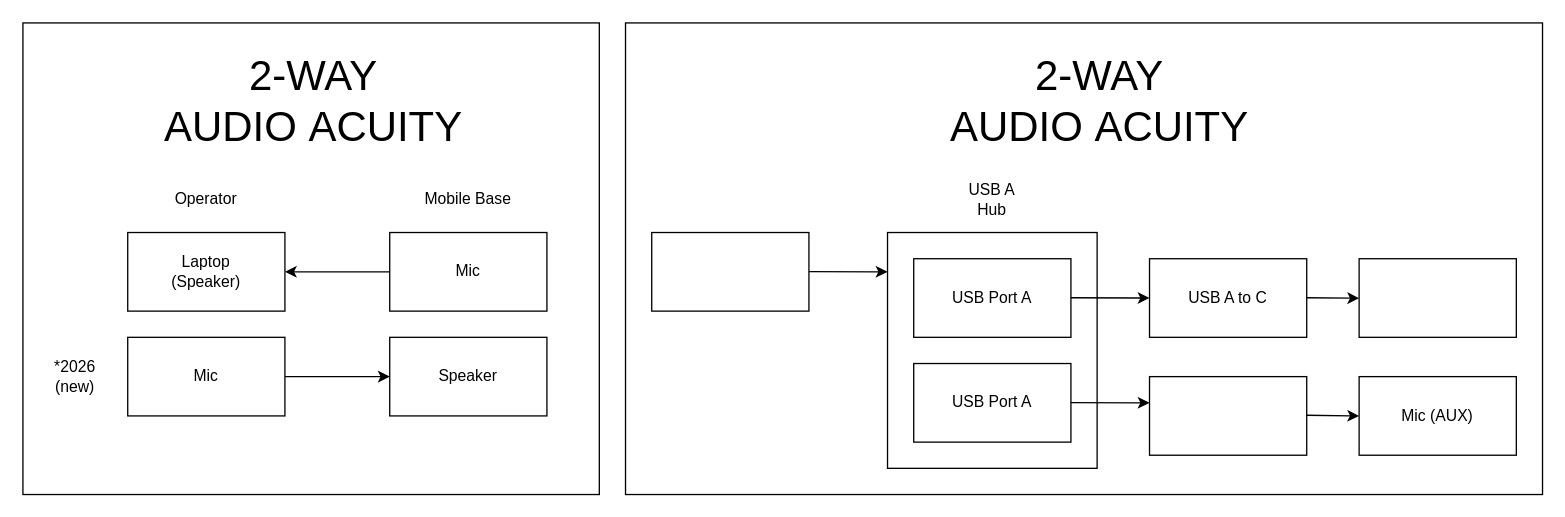
The diagram is 1565 pixels wide and 517 high, and some of its shapes have lost their labels. Each missing label, with the box of its shape:
NUC Port A: (650, 231, 809, 311)
Sound Card: (1148, 375, 1307, 455)
Speaker (USB-C): (1358, 257, 1516, 337)
